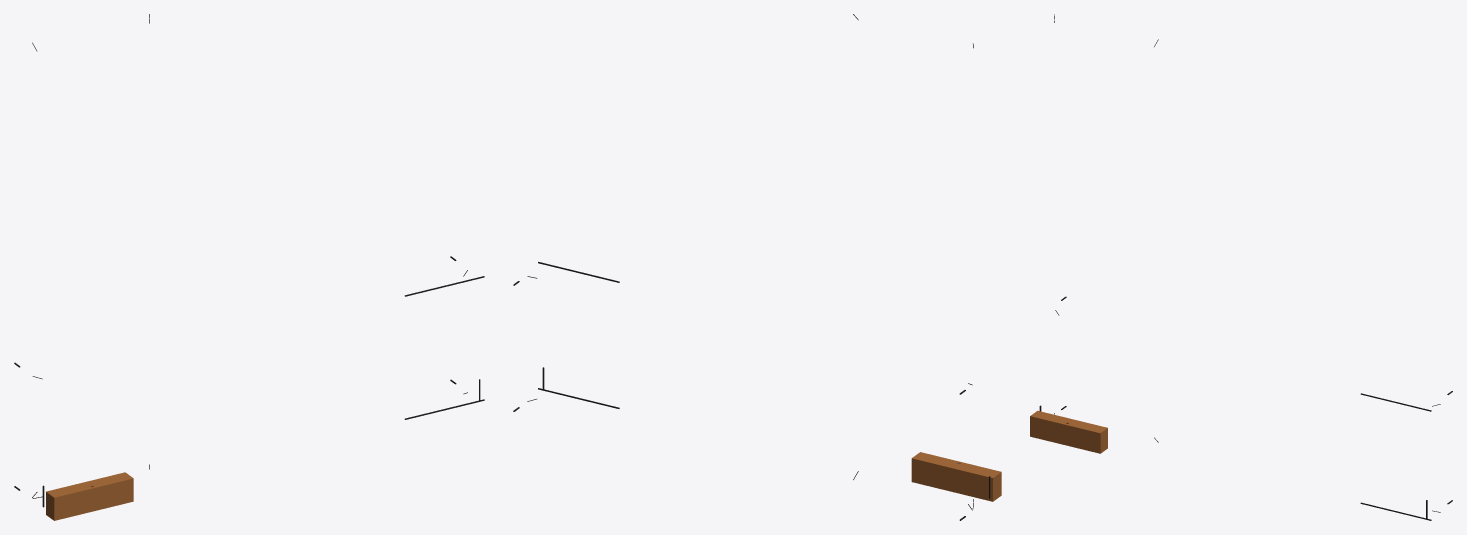
The picture shows the model from 3 angles, left to right: view 1: azimuth 30°, elevation 25°; view 2: azimuth 150°, elevation 25°; view 3: azimuth 330°, elevation 25°; orthographic projection. The views are drawn at different scales.
Bounding box in the file's own units: 60 × 59.67 × 9.44.
